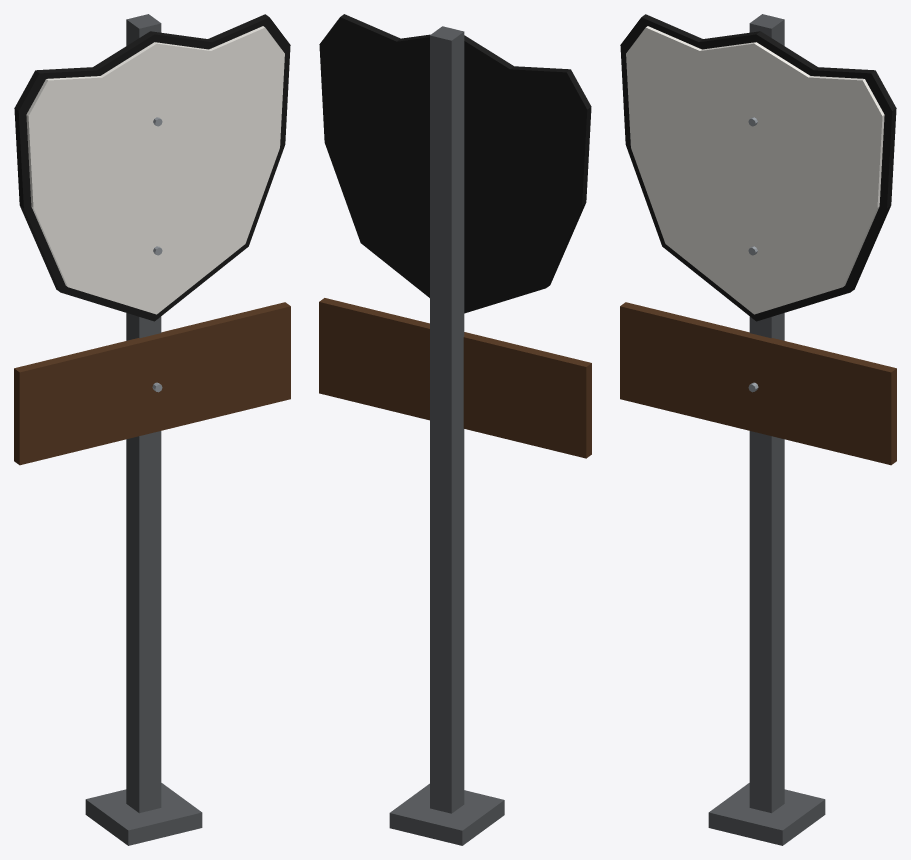
The model's file is route66.glb.
3 views of the same model, side by side, from view 1: azimuth 30°, elevation 25°; view 2: azimuth 150°, elevation 25°; view 3: azimuth 330°, elevation 25° (orthographic).
Visible parts, largest first — view 1: face2, board3, post0, edge1, post7; view 2: edge1, post0, board3, post7; view 3: face2, board3, post0, edge1, post7.
Boxes of the visible parts, x1,y1,x2,y2 form: face2: (26,26,284,314); board3: (14,302,290,465); post0: (126,14,161,813); edge1: (14,14,290,321); post7: (85,783,202,845); edge1: (319,14,591,313); post0: (430,26,464,813); board3: (319,298,591,458); post7: (389,783,504,845); face2: (626,26,884,314); board3: (620,302,896,465); post0: (749,14,784,813); edge1: (620,14,896,321); post7: (708,783,825,845).
Size of the model in its own units: 1.1 by 3.1 by 0.3.
